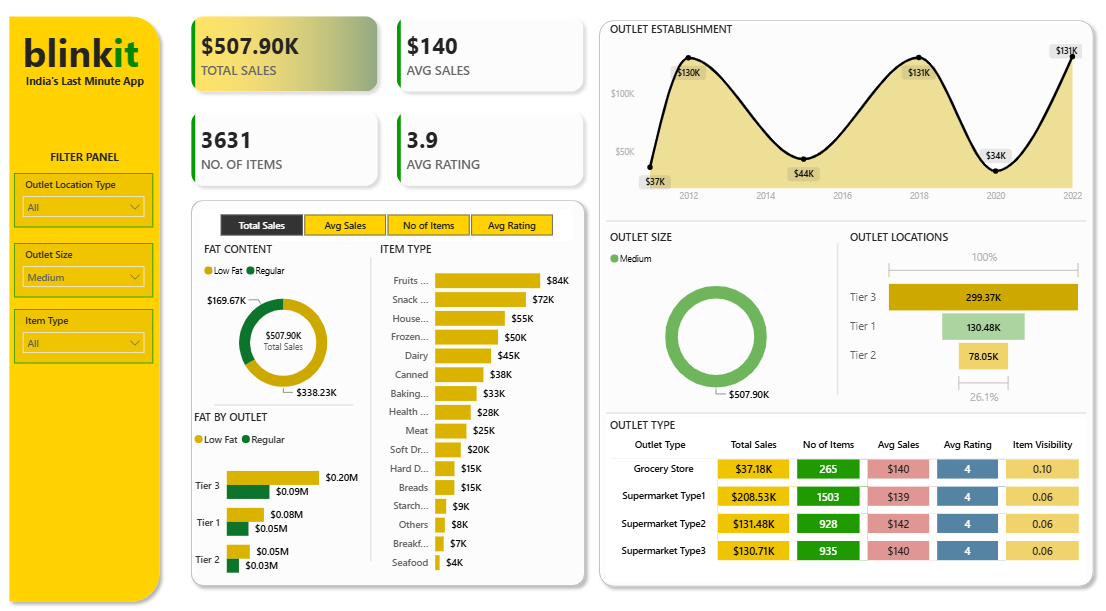

What the dashboard file says about the page in this screenshot:
{"tool":"powerbi","page":{"name":"Page 1","canvas":[1400,800],"ordinal":0},"visuals":[{"type":"shape","box":[10,20,206,750],"z":0},{"type":"textbox","box":[18,36,182,76],"z":1000},{"type":"textbox","box":[28,96,172,30],"z":2000},{"type":"cardVisual","fields":{"Data":["BlinkIT Grocery Data.Total Sales","BlinkIT Grocery Data.Avg Sales","BlinkIT Grocery Data.No of Items","BlinkIT Grocery Data.Avg Rating"]},"box":[218,0,548,270],"z":3000},{"type":"shape","box":[237.5,250,510,500],"z":4000},{"type":"donutChart","title":"FAT CONTENT","fields":{"Y":["BlinkIT Grocery Data.Total Sales"],"Category":["BlinkIT Grocery Data.Item Fat Content"]},"box":[258,310,208,210],"z":5000},{"type":"slicer","fields":{"Values":["Metrics.Metrics"]},"box":[258.3,270,465,40],"z":6000},{"type":"cardVisual","fields":{"Data":["BlinkIT Grocery Data.Total Sales"]},"box":[332,416,124,54],"z":7000},{"type":"clusteredBarChart","title":"FAT BY OUTLET","fields":{"Y":["BlinkIT Grocery Data.Total Sales"],"Category":["BlinkIT Grocery Data.Outlet Location Type"],"Series":["BlinkIT Grocery Data.Item Fat Content"]},"box":[246,520,220,230],"z":8000},{"type":"shape","box":[274,510,174,10],"z":9000},{"type":"shape","box":[466,330,12,380],"z":10000},{"type":"barChart","title":"ITEM TYPE","fields":{"Y":["BlinkIT Grocery Data.Total Sales"],"Category":["BlinkIT Grocery Data.Item Type"]},"box":[478,310,246,426],"z":11000},{"type":"shape","box":[748,24,636,726],"z":12000},{"type":"lineChart","title":"OUTLET ESTABLISHMENT","fields":{"Y":["BlinkIT Grocery Data.Total Sales"],"Category":["BlinkIT Grocery Data.Outlet Establishment Year"]},"box":[766,36,600,236],"z":13000},{"type":"shape","box":[766,280,600,10],"z":14000},{"type":"donutChart","title":"OUTLET SIZE","fields":{"Y":["BlinkIT Grocery Data.Total Sales"],"Category":["BlinkIT Grocery Data.Outlet Size"]},"box":[766,294,275,225],"z":15000},{"type":"shape","box":[1042,312,24,190],"z":16000},{"type":"funnel","title":"OUTLET LOCATIONS","fields":{"Y":["Sum(BlinkIT Grocery Data.Sales)"],"Category":["BlinkIT Grocery Data.Outlet Location Type"]},"box":[1066,294,300,226],"z":17000},{"type":"shape","box":[766,520,600,10],"z":18000},{"type":"pivotTable","title":"OUTLET TYPE","fields":{"Rows":["BlinkIT Grocery Data.Outlet Type"],"Values":["BlinkIT Grocery Data.Total Sales","BlinkIT Grocery Data.No of Items","BlinkIT Grocery Data.Avg Sales","BlinkIT Grocery Data.Avg Rating","Avg(BlinkIT Grocery Data.Item Visibility)"]},"box":[766,530,600,206],"z":19000},{"type":"slicer","fields":{"Values":["BlinkIT Grocery Data.Outlet Location Type"]},"box":[26,226,174,68],"z":20000},{"type":"slicer","fields":{"Values":["BlinkIT Grocery Data.Outlet Size"]},"box":[26,312,174,68],"z":21000},{"type":"slicer","fields":{"Values":["BlinkIT Grocery Data.Item Type"]},"box":[26,396,174,68],"z":22000},{"type":"textbox","box":[56,190,116,36],"z":22001}]}

Visuals, with their boxes on the page's 1400x800 design canvas (x1, y1, x2, y2). These are canvas units, not pixel positions in the 1106x611 screenshot, which may show the page scaled, cropped or inside an application window:
shape: (10, 20, 216, 770)
textbox: (18, 36, 200, 112)
textbox: (28, 96, 200, 126)
cardVisual - BlinkIT Grocery Data.Total Sales x BlinkIT Grocery Data.Avg Sales: (218, 0, 766, 270)
shape: (238, 250, 748, 750)
"FAT CONTENT" donutChart: (258, 310, 466, 520)
slicer - Metrics.Metrics: (258, 270, 723, 310)
cardVisual - BlinkIT Grocery Data.Total Sales: (332, 416, 456, 470)
"FAT BY OUTLET" clusteredBarChart: (246, 520, 466, 750)
shape: (274, 510, 448, 520)
shape: (466, 330, 478, 710)
"ITEM TYPE" barChart: (478, 310, 724, 736)
shape: (748, 24, 1384, 750)
"OUTLET ESTABLISHMENT" lineChart: (766, 36, 1366, 272)
shape: (766, 280, 1366, 290)
"OUTLET SIZE" donutChart: (766, 294, 1041, 519)
shape: (1042, 312, 1066, 502)
"OUTLET LOCATIONS" funnel: (1066, 294, 1366, 520)
shape: (766, 520, 1366, 530)
"OUTLET TYPE" pivotTable: (766, 530, 1366, 736)
slicer - BlinkIT Grocery Data.Outlet Location Type: (26, 226, 200, 294)
slicer - BlinkIT Grocery Data.Outlet Size: (26, 312, 200, 380)
slicer - BlinkIT Grocery Data.Item Type: (26, 396, 200, 464)
textbox: (56, 190, 172, 226)
